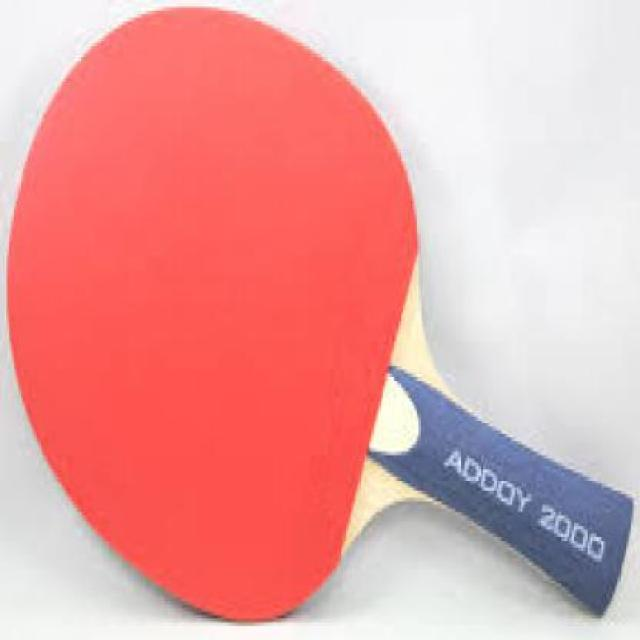table_tennis_racket: (0, 0, 448, 623)
